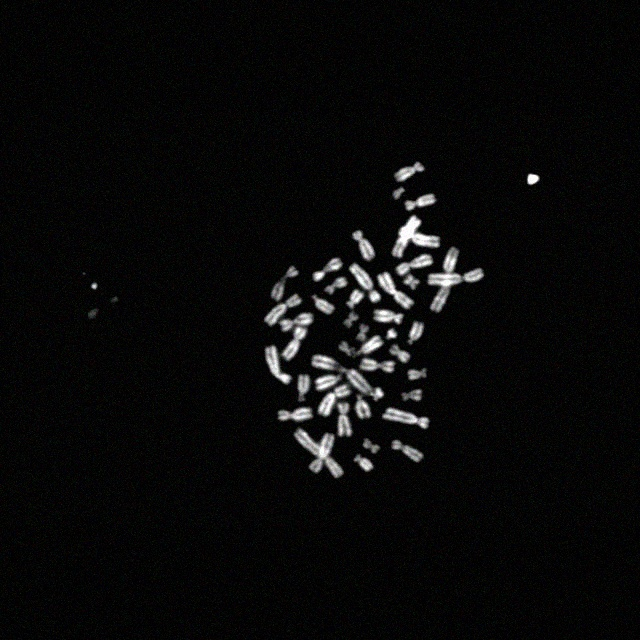chromosome: (291, 428, 343, 479), (311, 355, 371, 397), (431, 245, 461, 312), (378, 271, 414, 311), (349, 262, 381, 304), (392, 215, 422, 258), (264, 294, 302, 326), (338, 332, 384, 358), (264, 346, 292, 386), (309, 431, 337, 471), (381, 406, 431, 428), (426, 268, 484, 286), (317, 385, 351, 415), (398, 226, 442, 248), (280, 326, 308, 360), (272, 265, 298, 301), (396, 252, 432, 276), (395, 159, 425, 183), (313, 257, 343, 281), (353, 229, 375, 261), (392, 440, 424, 462), (276, 406, 312, 424), (281, 313, 314, 332), (404, 193, 438, 211), (358, 357, 396, 373), (335, 402, 351, 438), (314, 372, 342, 392), (294, 374, 312, 404), (405, 321, 425, 345), (354, 393, 372, 419), (373, 310, 405, 324), (312, 294, 334, 314), (352, 454, 373, 474), (389, 343, 411, 362), (324, 277, 348, 293), (345, 291, 363, 309), (402, 274, 420, 290), (362, 438, 380, 454), (402, 388, 422, 402), (344, 309, 358, 327), (408, 367, 426, 381), (356, 322, 368, 342), (391, 185, 407, 199), (370, 386, 384, 402), (386, 328, 398, 340)
